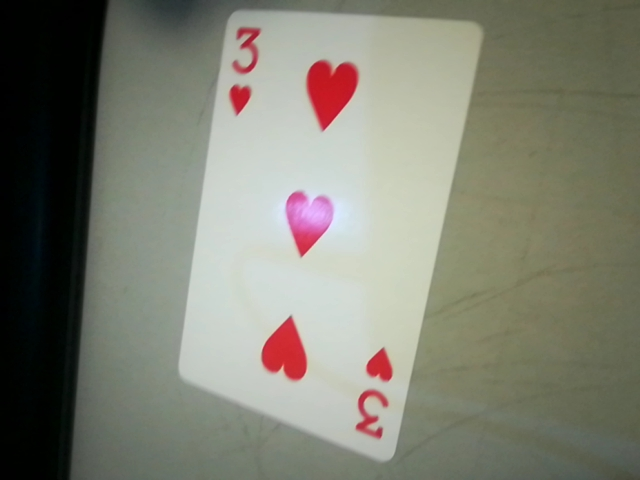hx 3: (347, 340, 402, 452)
